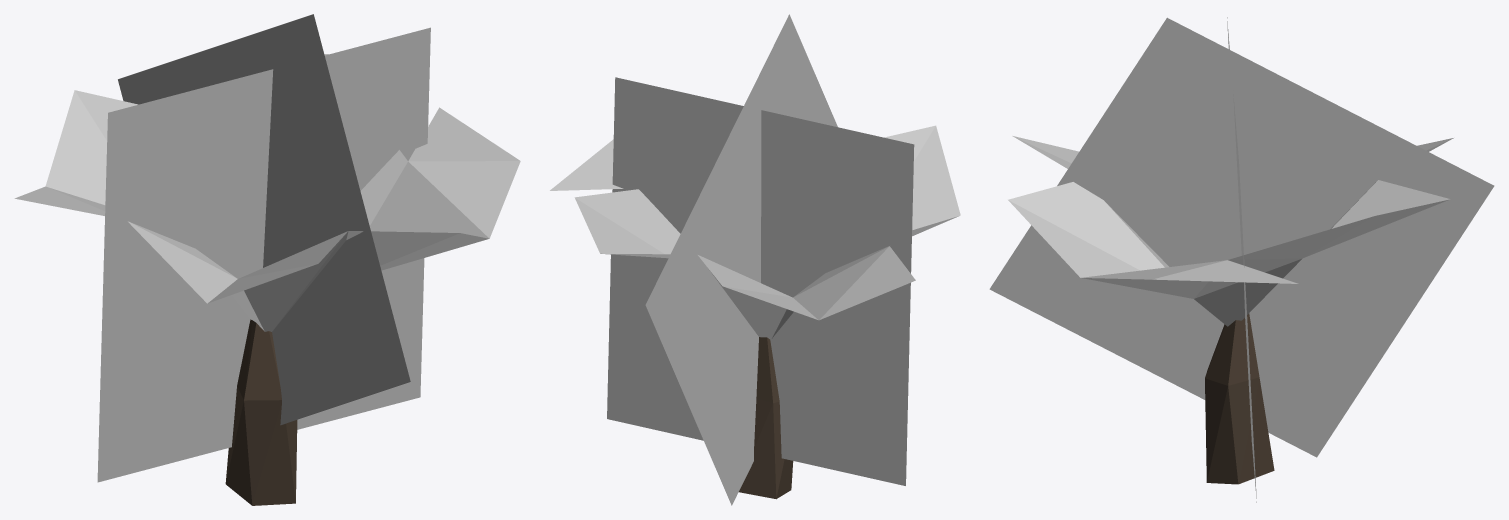
File: ADDON_PLANTS_SMALLPALM_02_73P.OBJ
3 views of the same model, side by side, from view 1: azimuth 30°, elevation 25°; view 2: azimuth 150°, elevation 25°; view 3: azimuth 270°, elevation 25° (orthographic). The views are drawn at different scales.
Parts seen in each view (by area): view 1: ADDON_PLANTS_SMALLPALM_02_73P; view 2: ADDON_PLANTS_SMALLPALM_02_73P; view 3: ADDON_PLANTS_SMALLPALM_02_73P.
Part boxes in pixels (bbox=[...]): ADDON_PLANTS_SMALLPALM_02_73P: bbox=[14, 14, 520, 505]; ADDON_PLANTS_SMALLPALM_02_73P: bbox=[550, 14, 960, 505]; ADDON_PLANTS_SMALLPALM_02_73P: bbox=[989, 17, 1494, 502].
Size of the model in its own units: 8.34 by 9.62 by 9.5.
